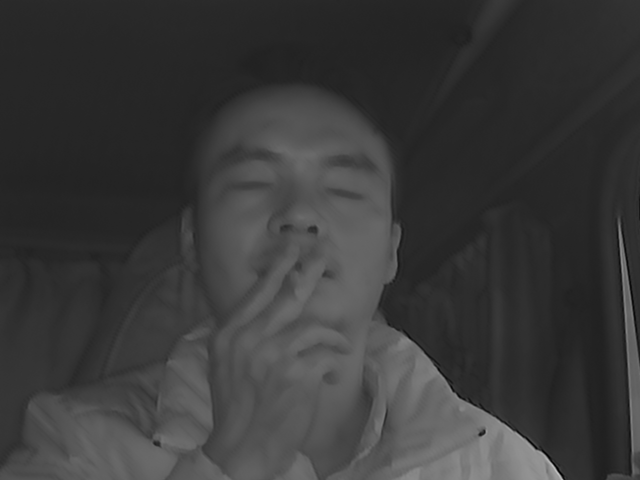hand: (219, 251, 357, 403)
